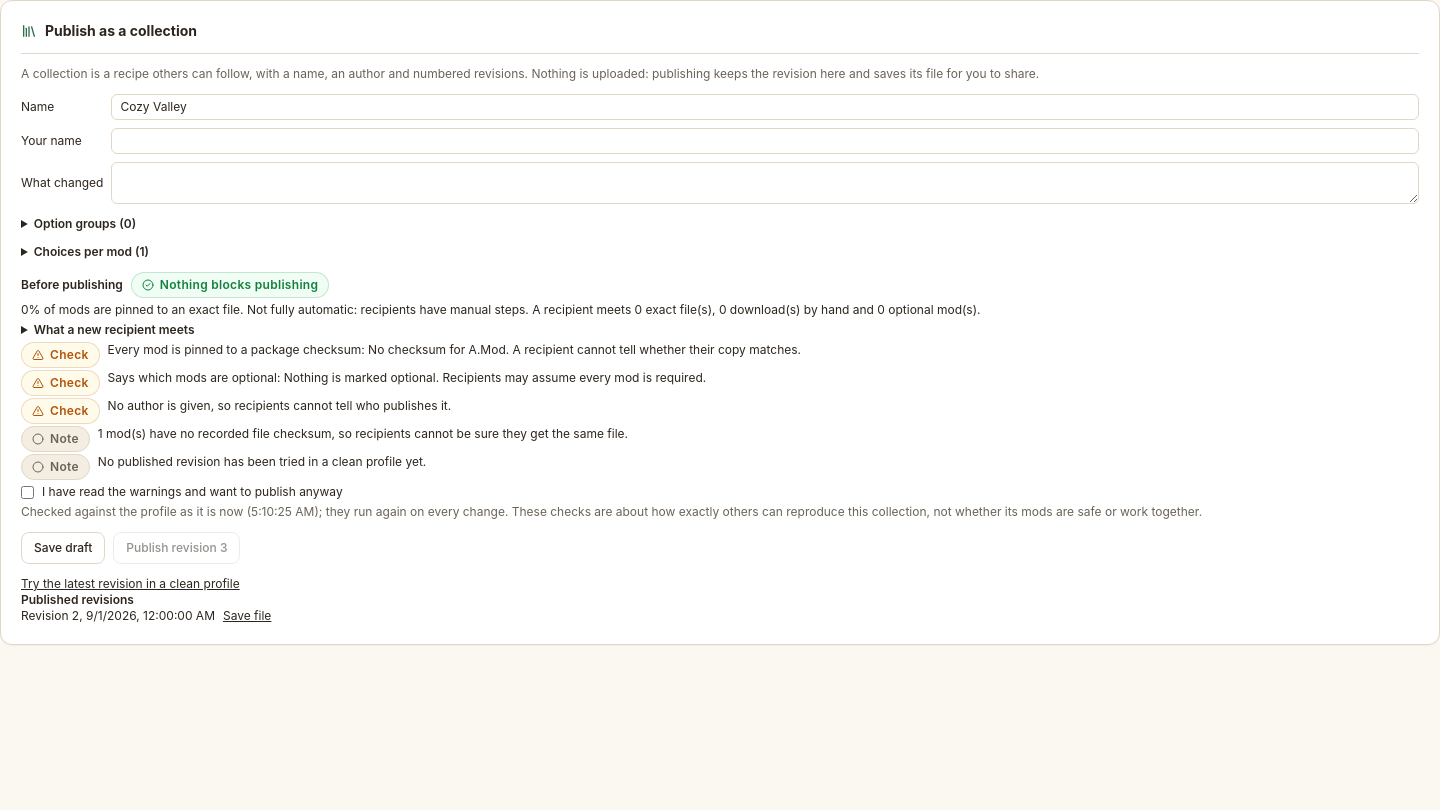
Test: testing a collection in a clean profile › makes an empty profile that follows the latest revision
This screenshot has width=1440, height=810.
Click the button "Try the latest revision in a clean profile" at (130, 584), box [21, 576, 240, 592]
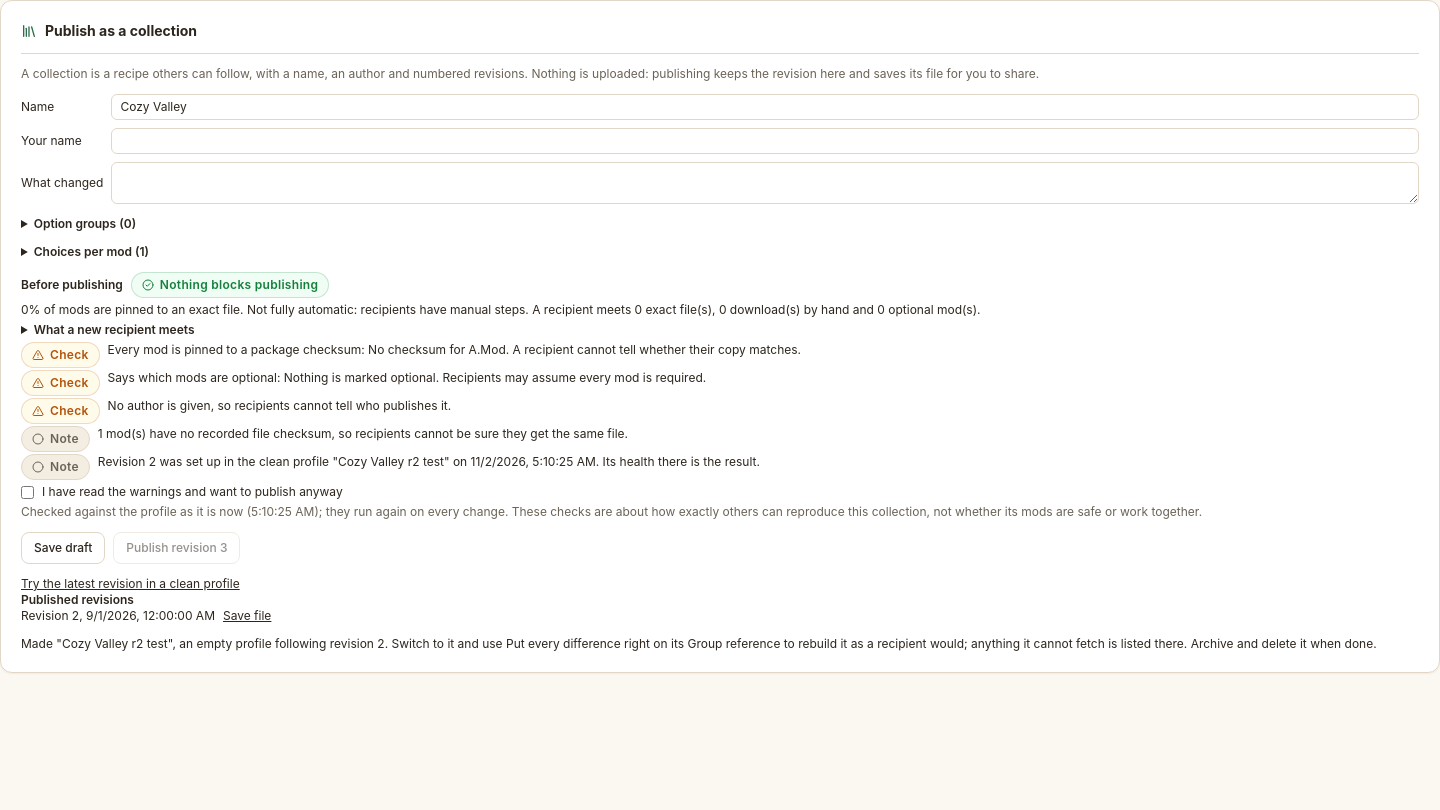
Expected: the text "an empty profile following revision 2" is shown, [21, 636, 1377, 651]
Expected: the text "Revision 2 was set up in the clean profile" is shown, [98, 454, 760, 469]
